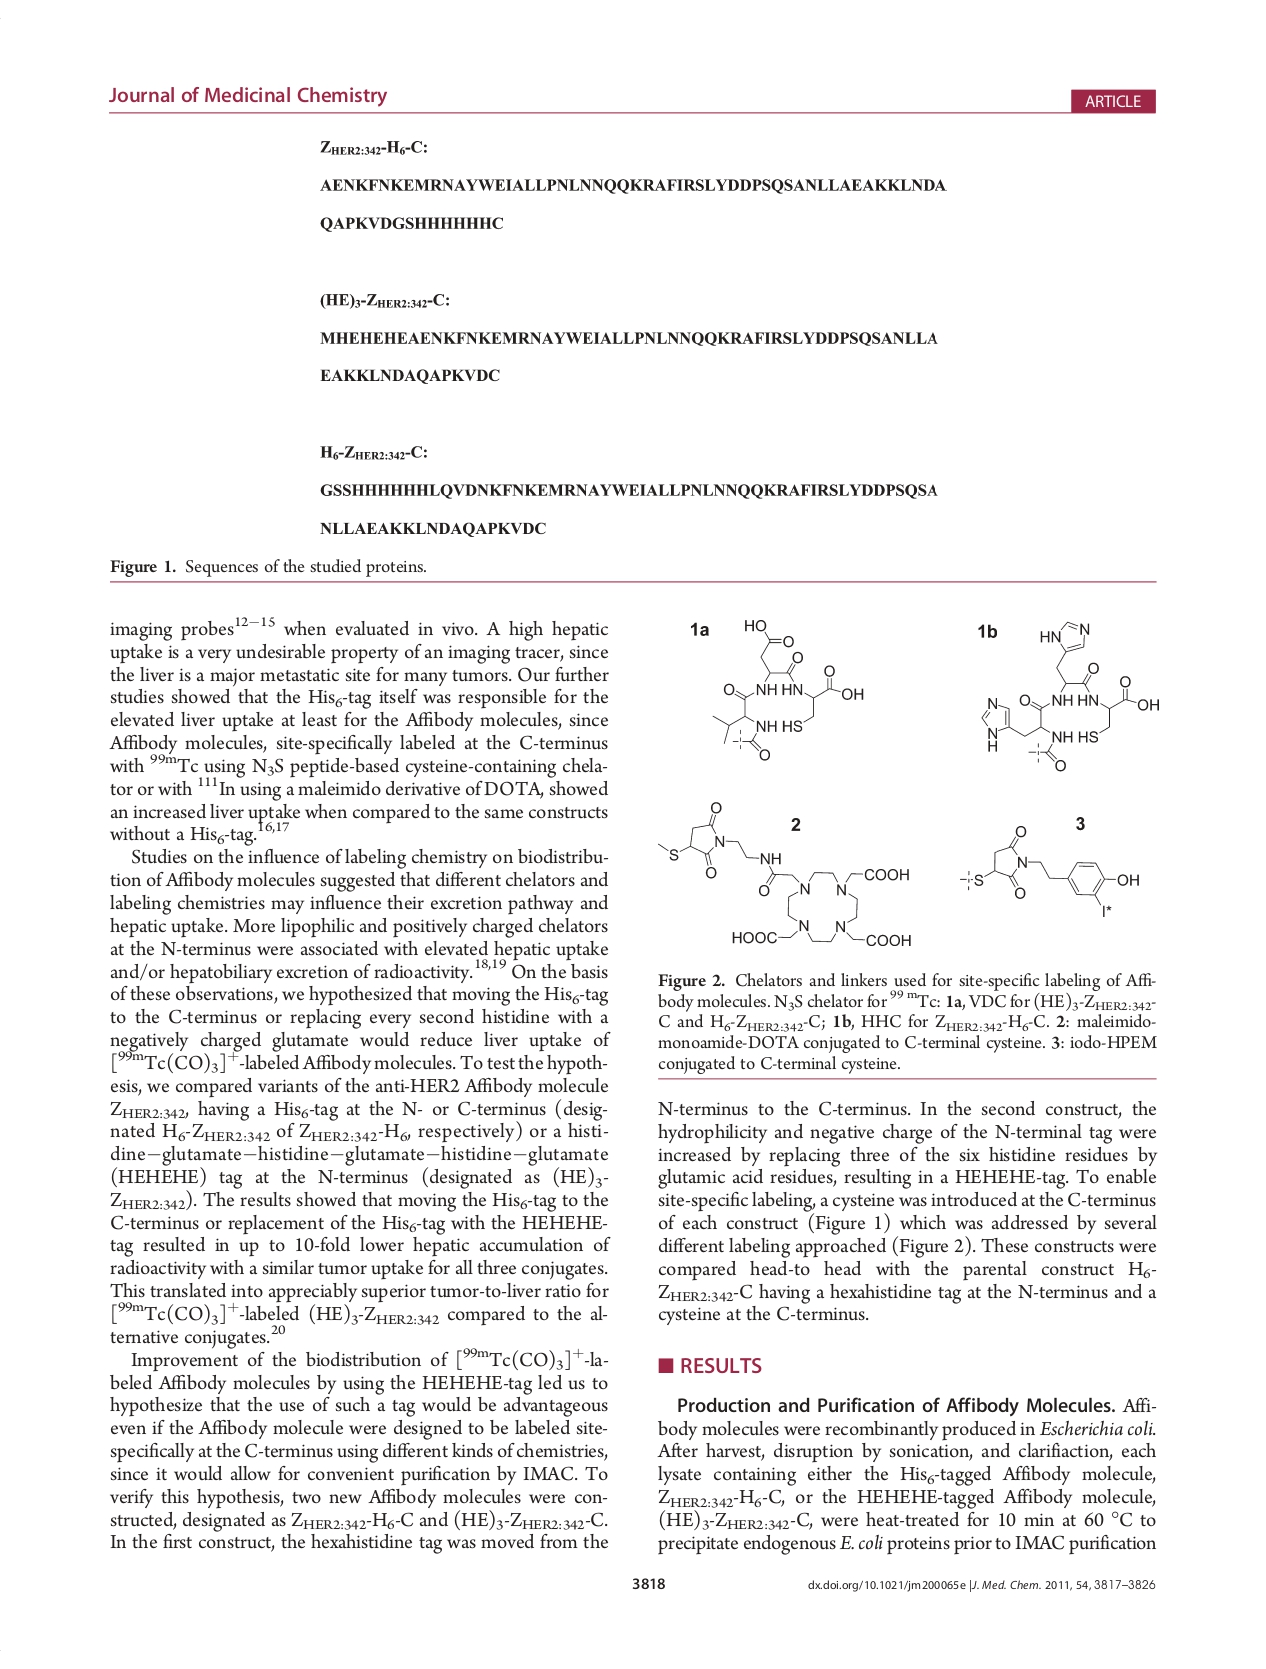exist_molecular: (656, 798, 916, 950), (979, 618, 1164, 773), (711, 616, 868, 763), (957, 823, 1144, 922)
